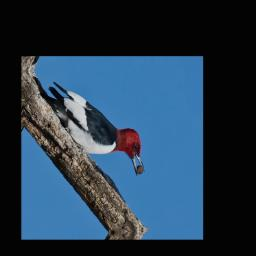Woodpecker: (45, 72, 147, 185)
